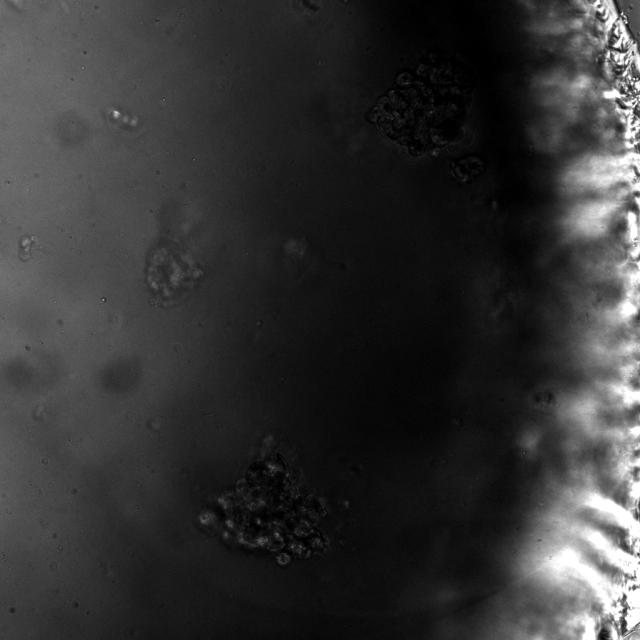organoid: (196, 436, 328, 566), (367, 53, 477, 158), (145, 239, 202, 307), (450, 155, 485, 183), (104, 106, 141, 132), (18, 235, 44, 261), (24, 344, 31, 351)
